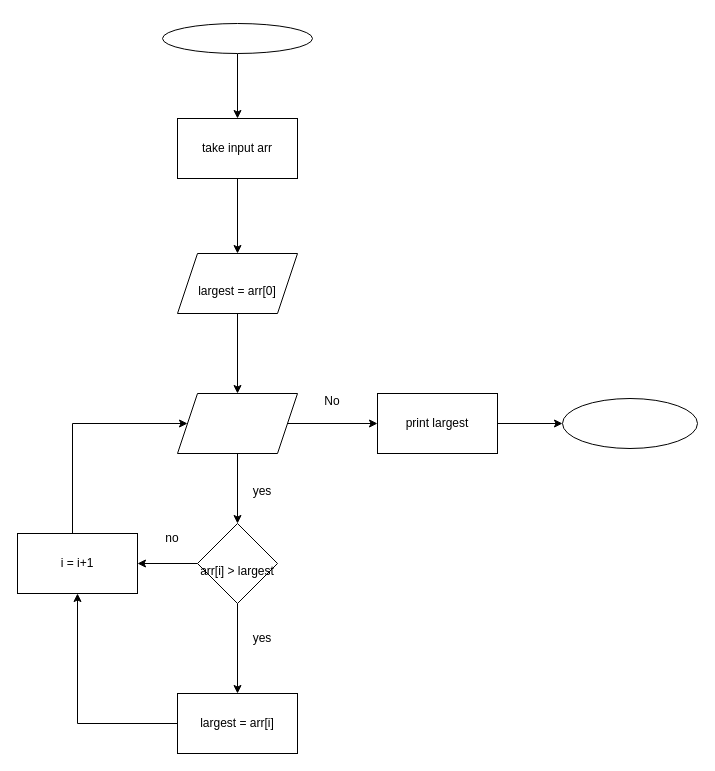
Image size: 715x771. Some labels were removed from this diagram. The box of each missing label's shape, as (x1, y1, x2, y2) in pixels:
End: (562, 398, 698, 448)
i <= N: (176, 392, 298, 454)
START: (162, 22, 312, 54)
